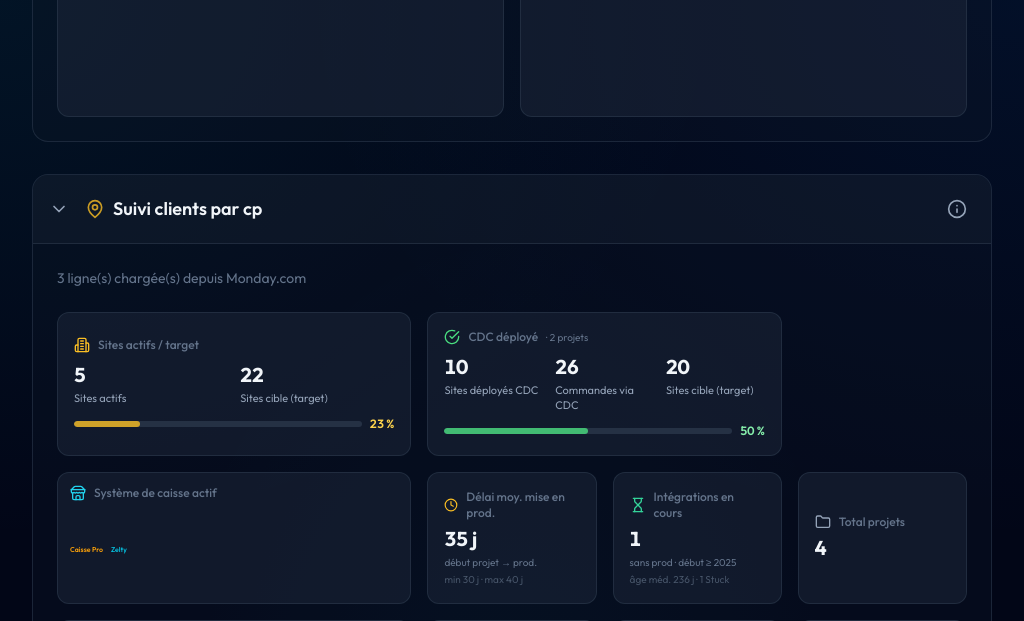
Test: ProduitDashboard › ouvre la modale détail KPI sites actifs
The width and height of the screenshot is (1024, 621).
(page scrolled)
Expected: the progress indicator named "Progression sites actifs vs target" is shown, [74, 421, 362, 427]
Click the button "Sites actifs / target" at (149, 344), box [57, 312, 411, 456]
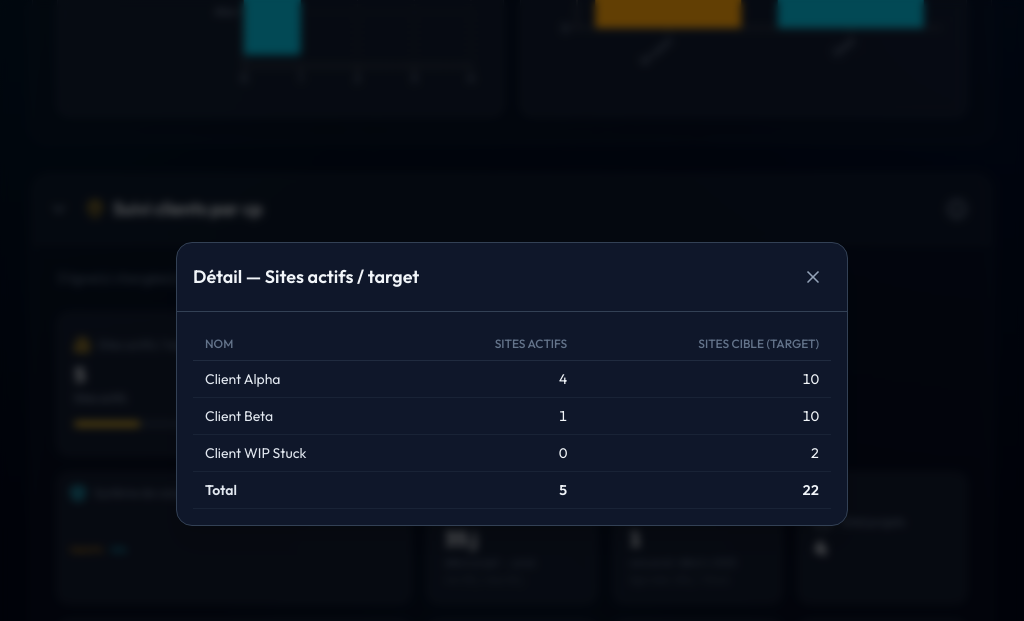
Expected: the heading "Détail — Sites actifs / target" is shown, [193, 263, 419, 291]
Expected: the column heading "Sites actifs" is shown, [411, 328, 579, 360]
Expected: the column heading "Sites cible (target)" is shown, [579, 328, 831, 360]
